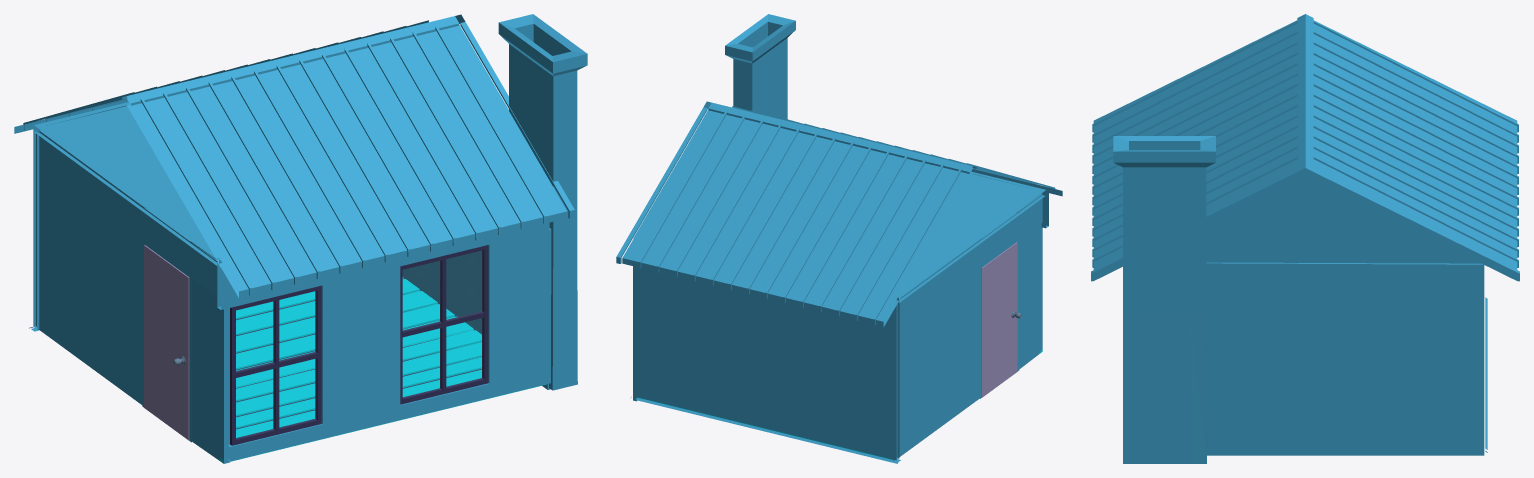
The model's file is Cuarto2.fbx.
The picture shows the model from 3 angles, left to right: view 1: azimuth 30°, elevation 25°; view 2: azimuth 150°, elevation 25°; view 3: azimuth 270°, elevation 25°; orthographic projection. The views are drawn at different scales.
Parts seen in each view (by area): view 1: Fachada_polySurface405, PuertaInt_polySurface2268; view 2: Fachada_polySurface405, PuertaInt_polySurface2268; view 3: Fachada_polySurface405.
Part boxes in pixels (bbox=[...]): Fachada_polySurface405: bbox=[14, 14, 587, 463]; PuertaInt_polySurface2268: bbox=[144, 245, 189, 440]; Fachada_polySurface405: bbox=[616, 14, 1062, 463]; PuertaInt_polySurface2268: bbox=[981, 242, 1021, 397]; Fachada_polySurface405: bbox=[1091, 14, 1519, 463].
Size of the model in its own units: 739 by 648 by 797.
6 materials, 6 textured.
